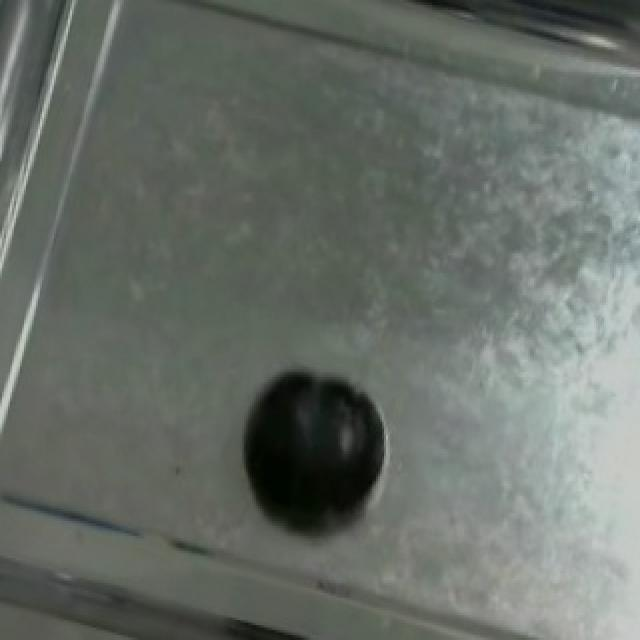Fruit: (228, 362, 390, 536)
